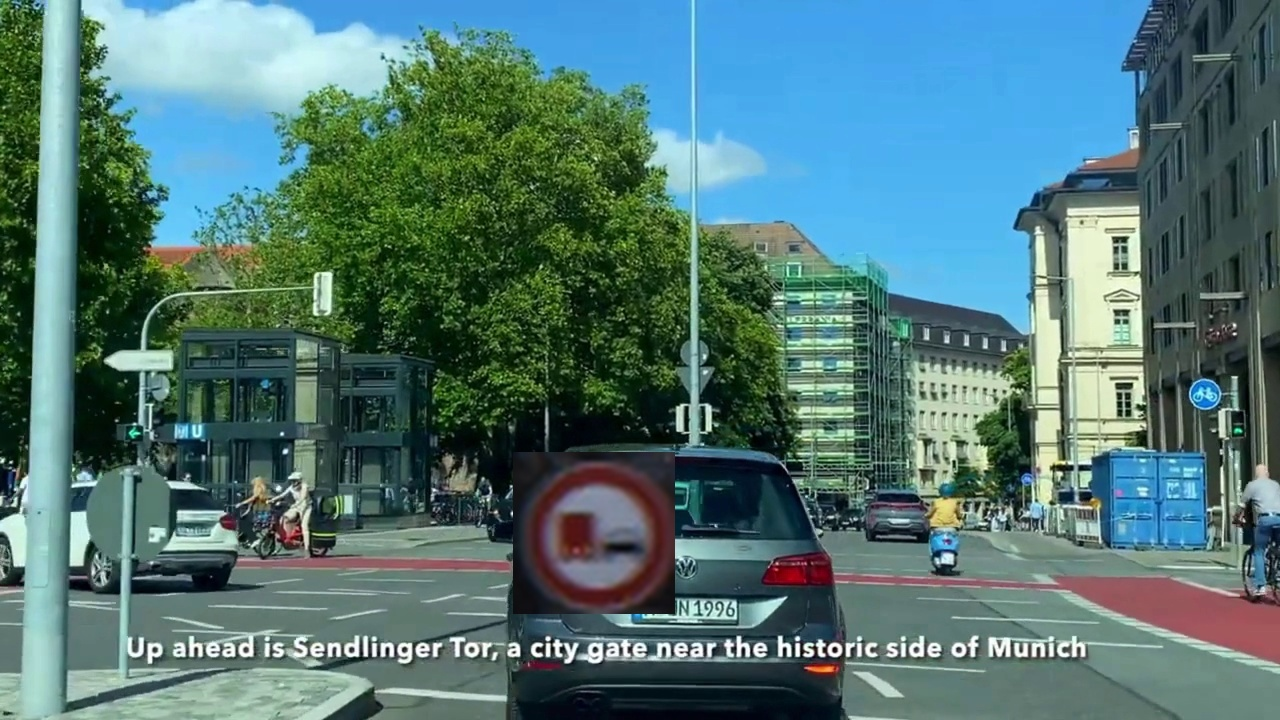No pass >3.5t: (513, 452, 675, 614)
